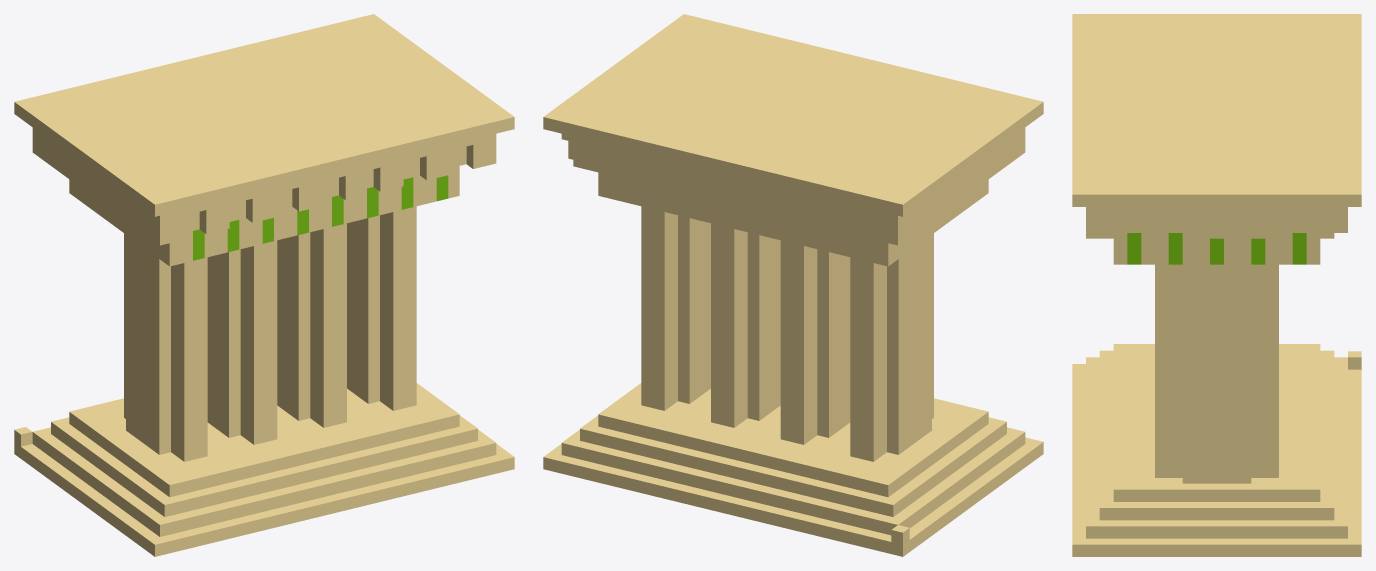
The model's file is TwentyFiveModel.fbx.
3 renders of one model, left to right at view 1: azimuth 30°, elevation 25°; view 2: azimuth 150°, elevation 25°; view 3: azimuth 270°, elevation 25°, orthographic. The views are drawn at different scales.
Parts seen in each view (by area): view 1: Box; view 2: Box; view 3: Box.
Boxes of the visible parts, <box> form: Box: <box>14,14,514,556</box>; Box: <box>543,14,1043,556</box>; Box: <box>1072,14,1361,556</box>.
Bounding box in the file's own units: 31 × 29 × 21.
1 material, 1 textured.
